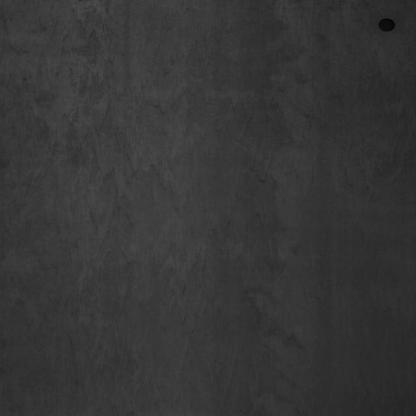punching_hole: (376, 15, 399, 35)
silk_spot: (3, 11, 371, 402)
